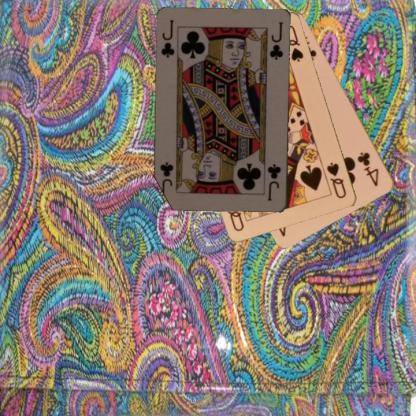4c: (355, 149, 380, 188)
Jc: (265, 162, 283, 202), (159, 17, 176, 59)
Qs: (324, 159, 348, 200)
